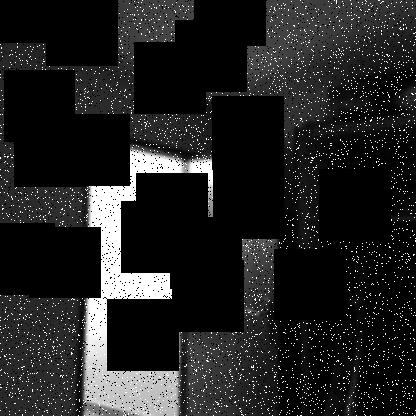Porte: (77, 126, 286, 416)
